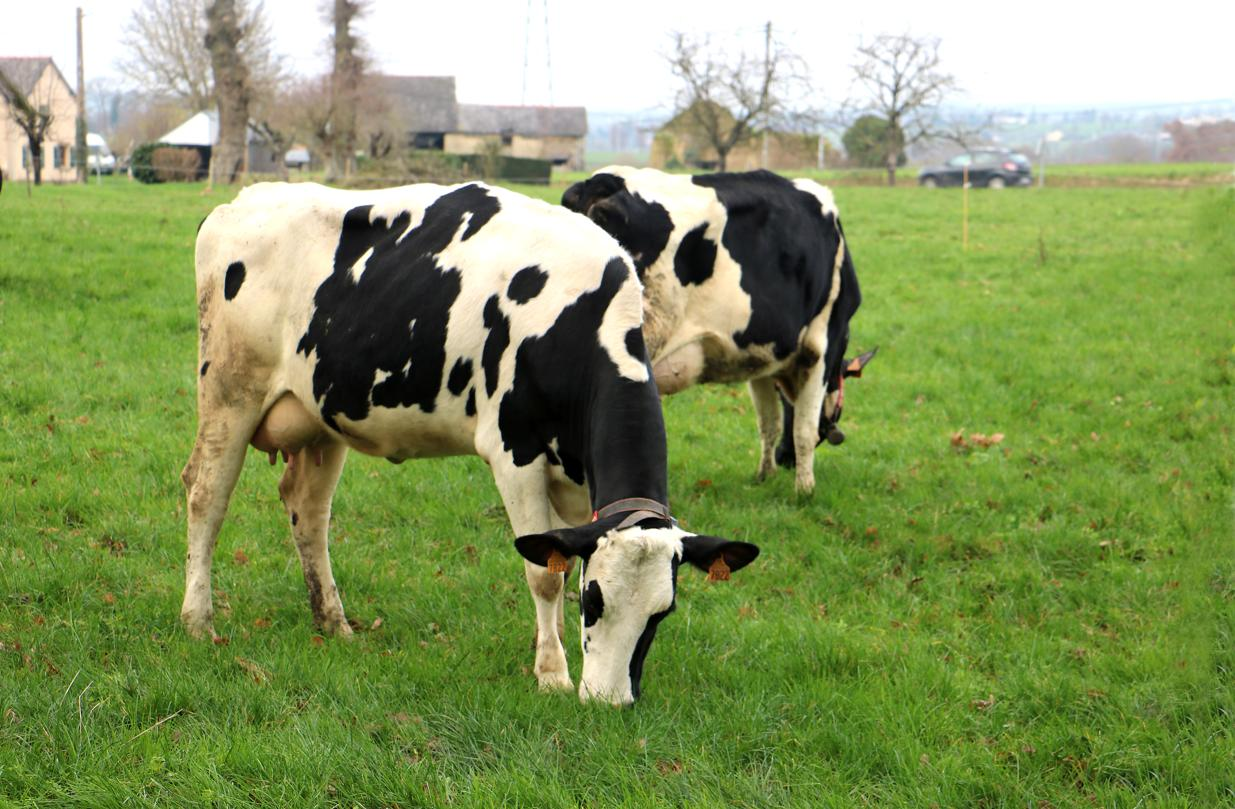cow: (503, 465, 753, 700), (743, 164, 880, 502)
